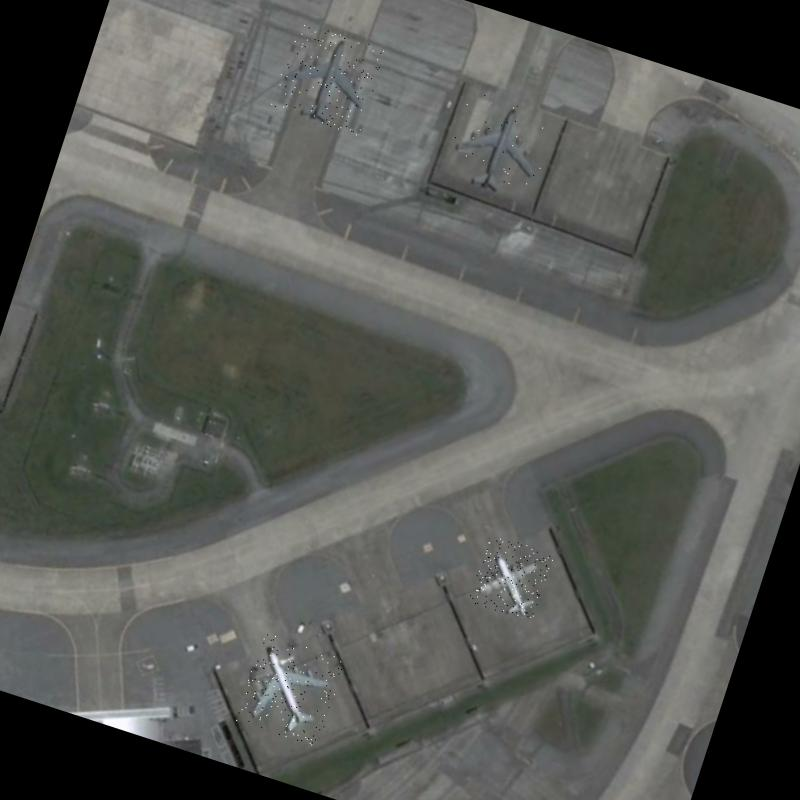A11: (235, 632, 346, 748)
A14: (270, 21, 387, 136), (442, 90, 557, 206)
A9: (468, 534, 556, 624)
